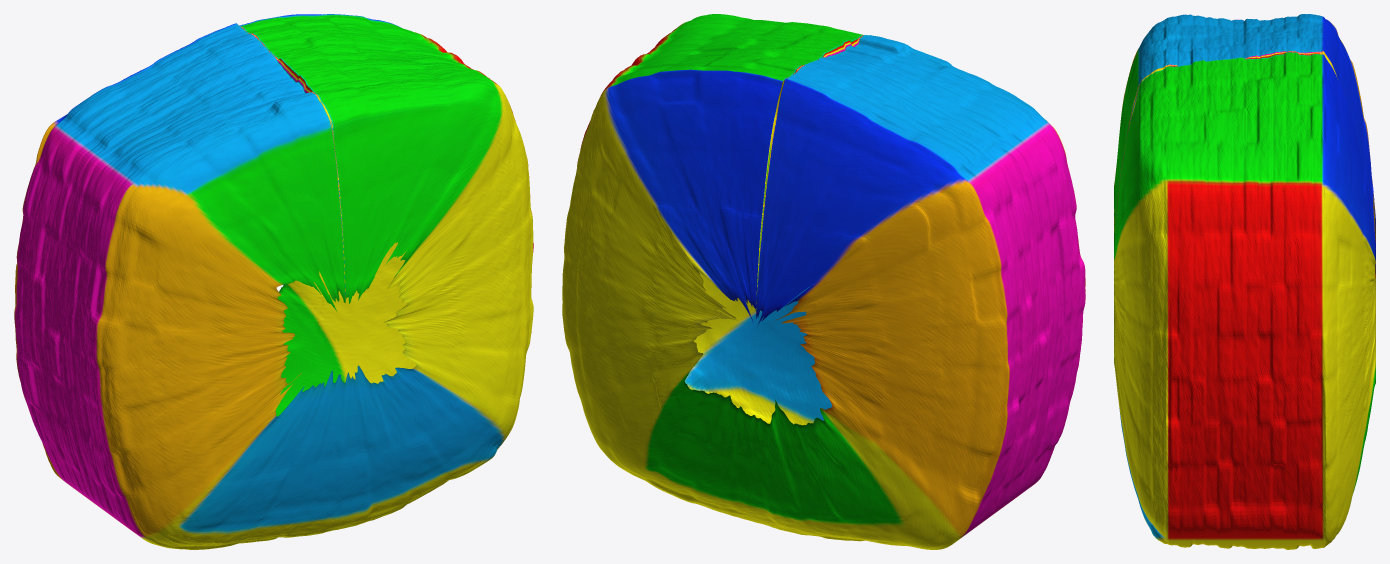
3 renders of one model, left to right at view 1: azimuth 30°, elevation 25°; view 2: azimuth 150°, elevation 25°; view 3: azimuth 270°, elevation 25°, orthographic. The views are drawn at different scales.
Parts seen in each view (by area): view 1: geometry_0; view 2: geometry_0; view 3: geometry_0.
Part boxes in pixels (x1,y1,x2,y2): geometry_0: (14,14,533,549); geometry_0: (562,14,1085,549); geometry_0: (1114,14,1375,549).
Size of the model in its own units: 1.79 by 1.76 by 0.9246.
Materials: 1 (1 with a texture image).
